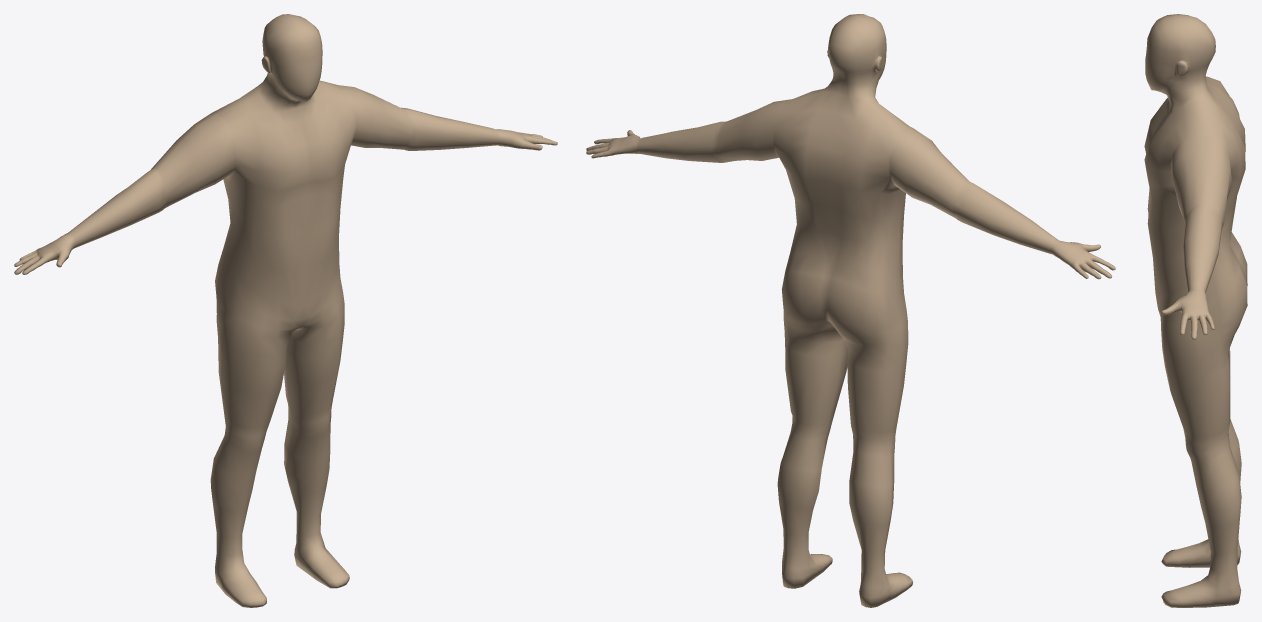
Rendered from CH_MainCharacterAdam.fbx.
3 renders of one model, left to right at view 1: azimuth 30°, elevation 25°; view 2: azimuth 150°, elevation 25°; view 3: azimuth 270°, elevation 25°, orthographic. The views are drawn at different scales.
Parts seen in each view (by area): view 1: Retopologia.002; view 2: Retopologia.002; view 3: Retopologia.002.
Boxes of the visible parts, left/top/right/bottom form: Retopologia.002: left=14, top=14, right=557, bottom=607; Retopologia.002: left=586, top=14, right=1115, bottom=607; Retopologia.002: left=1144, top=14, right=1247, bottom=607.
Bounding box in the file's own units: 177 × 180 × 29.65.
